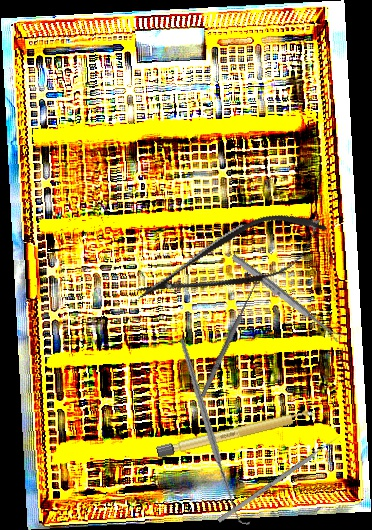Hook Surgical: (141, 337, 288, 526), (195, 275, 261, 399)
Micro Scissor: (126, 197, 337, 324)
Pusher: (217, 433, 342, 524)
Scalpel Handle: (155, 407, 317, 459)
Surgical Spoon: (230, 252, 343, 344)
